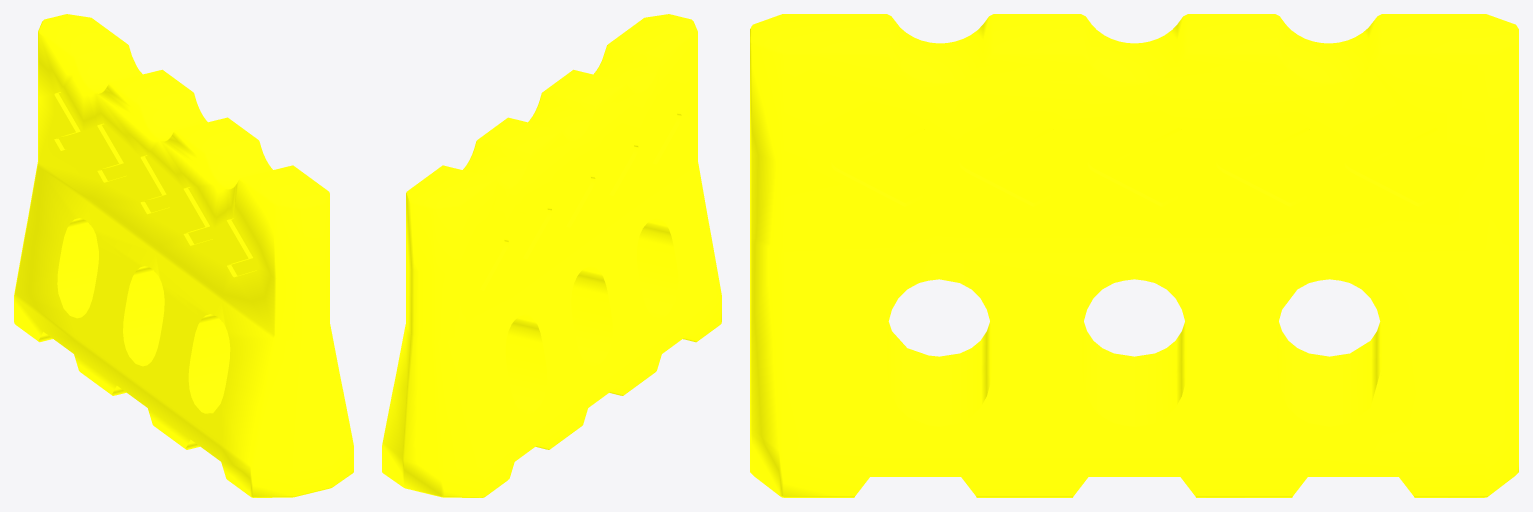
The model's file is Water_Bollard.glb.
3 views of the same model, side by side, from view 1: azimuth 30°, elevation 25°; view 2: azimuth 150°, elevation 25°; view 3: azimuth 270°, elevation 25° (orthographic). The views are drawn at different scales.
Visible parts, largest first — view 1: Water_Bollard; view 2: Water_Bollard; view 3: Water_Bollard.
Part boxes in pixels (box(x1,y1,x2,y2)): Water_Bollard: box(14, 14, 353, 497); Water_Bollard: box(382, 14, 721, 497); Water_Bollard: box(750, 14, 1518, 497).
Size of the model in its own units: 0.3 by 0.8 by 1.3.
